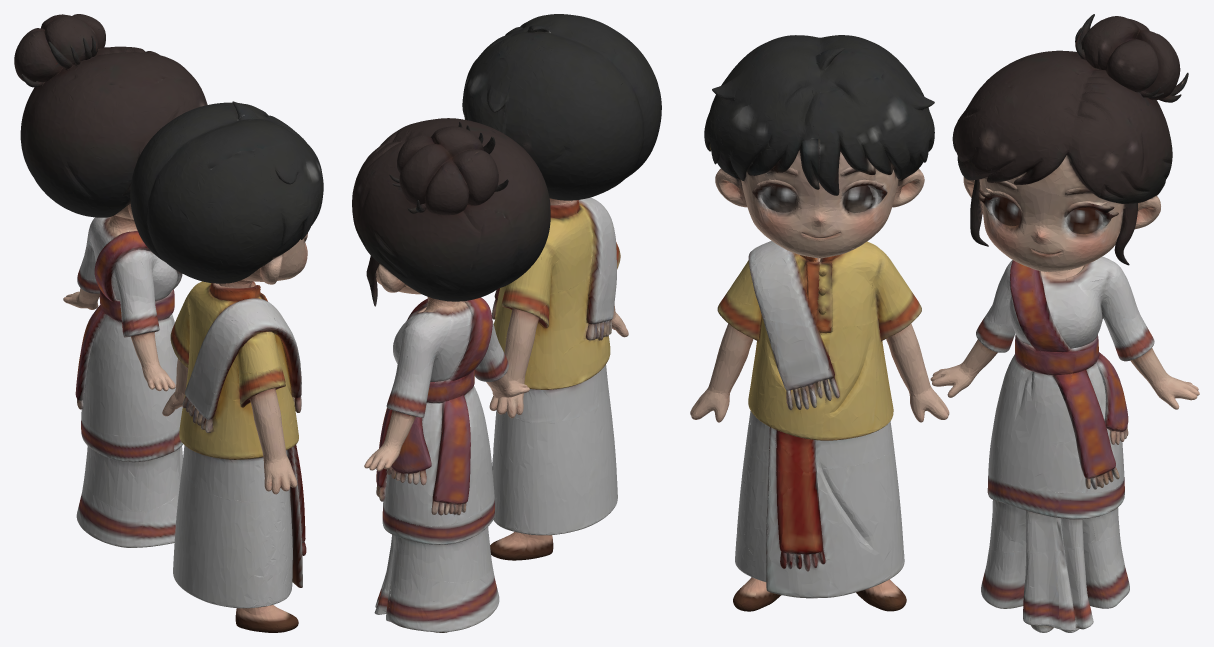
File: champa7.glb
The picture shows the model from 3 angles, left to right: view 1: azimuth 30°, elevation 25°; view 2: azimuth 150°, elevation 25°; view 3: azimuth 270°, elevation 25°; orthographic projection. The views are drawn at different scales.
Visible parts, largest first — view 1: tripo_node_b69d412c-0f82-4442-b060-11beacba1086; view 2: tripo_node_b69d412c-0f82-4442-b060-11beacba1086; view 3: tripo_node_b69d412c-0f82-4442-b060-11beacba1086.
Boxes of the visible parts, box(x1,y1,x2,y2) form: tripo_node_b69d412c-0f82-4442-b060-11beacba1086: box(14, 14, 323, 632); tripo_node_b69d412c-0f82-4442-b060-11beacba1086: box(352, 14, 661, 632); tripo_node_b69d412c-0f82-4442-b060-11beacba1086: box(690, 14, 1199, 632).
Bounding box in the file's own units: 0.3461 × 0.9999 × 0.8117.
1 material, 1 textured.
